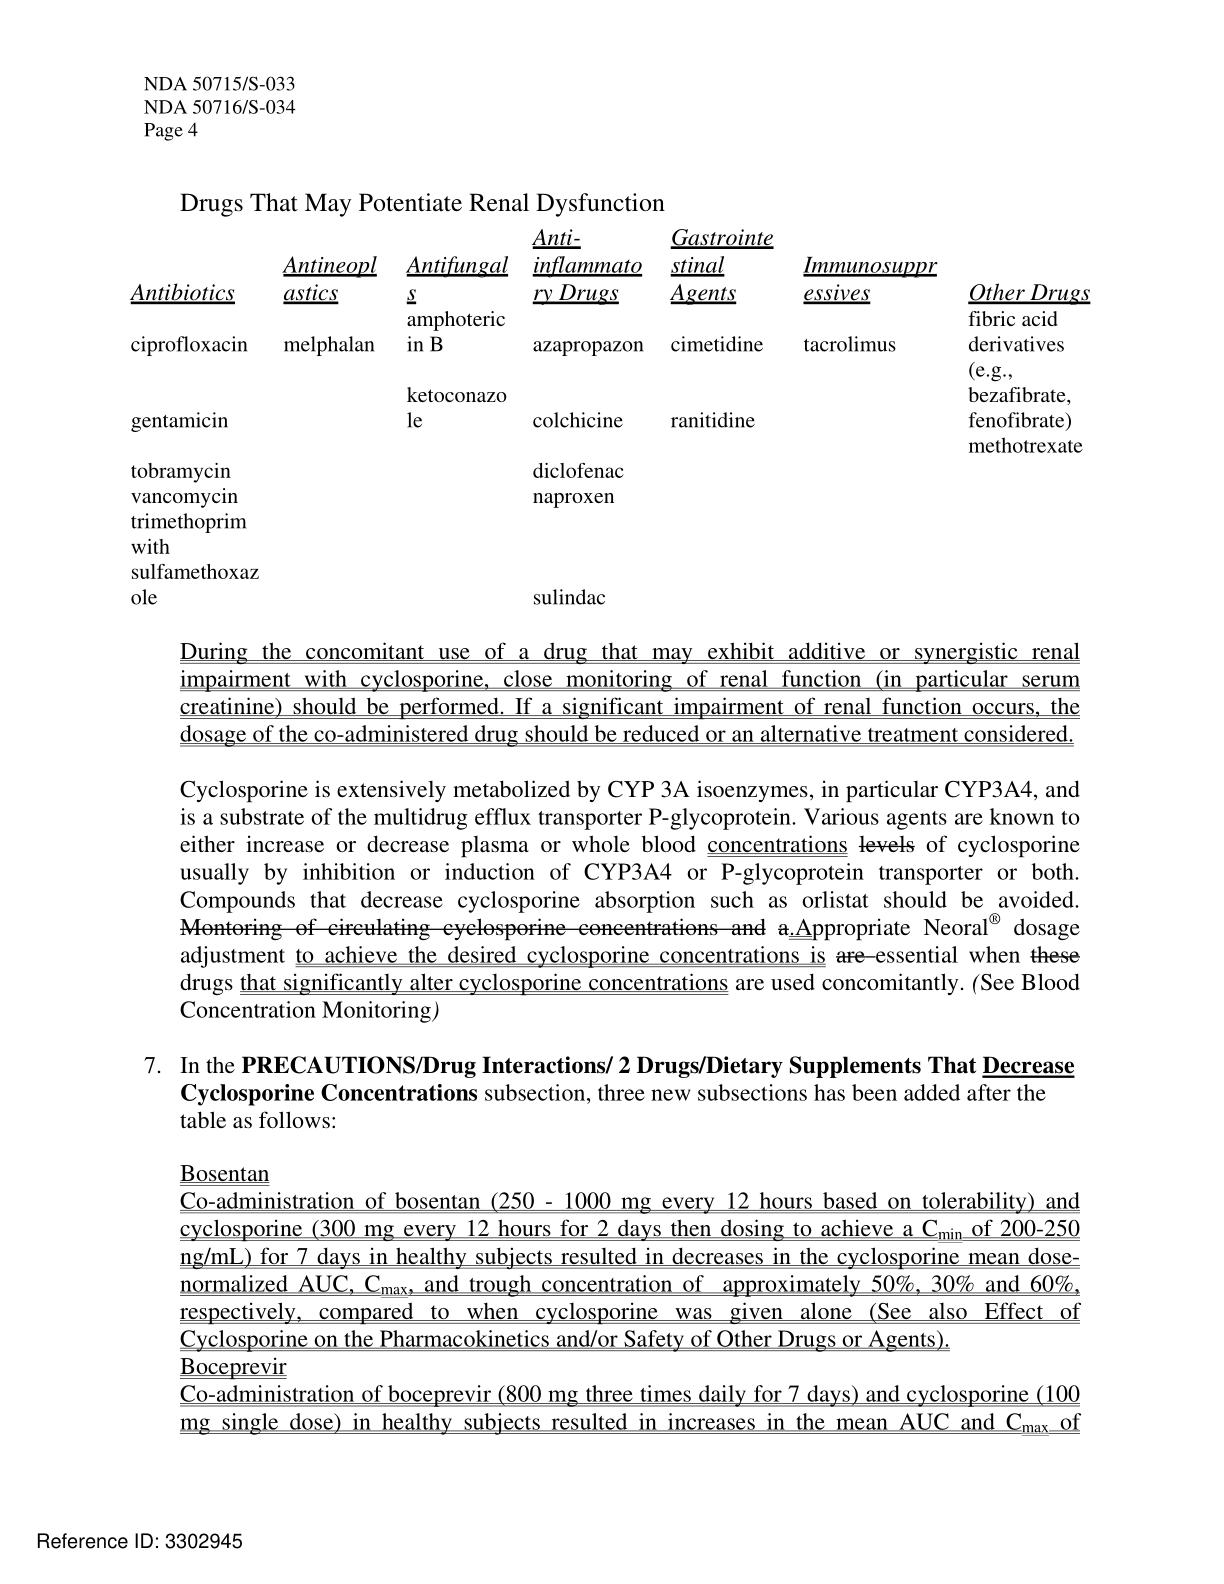nolines: (126, 222, 1097, 611)
